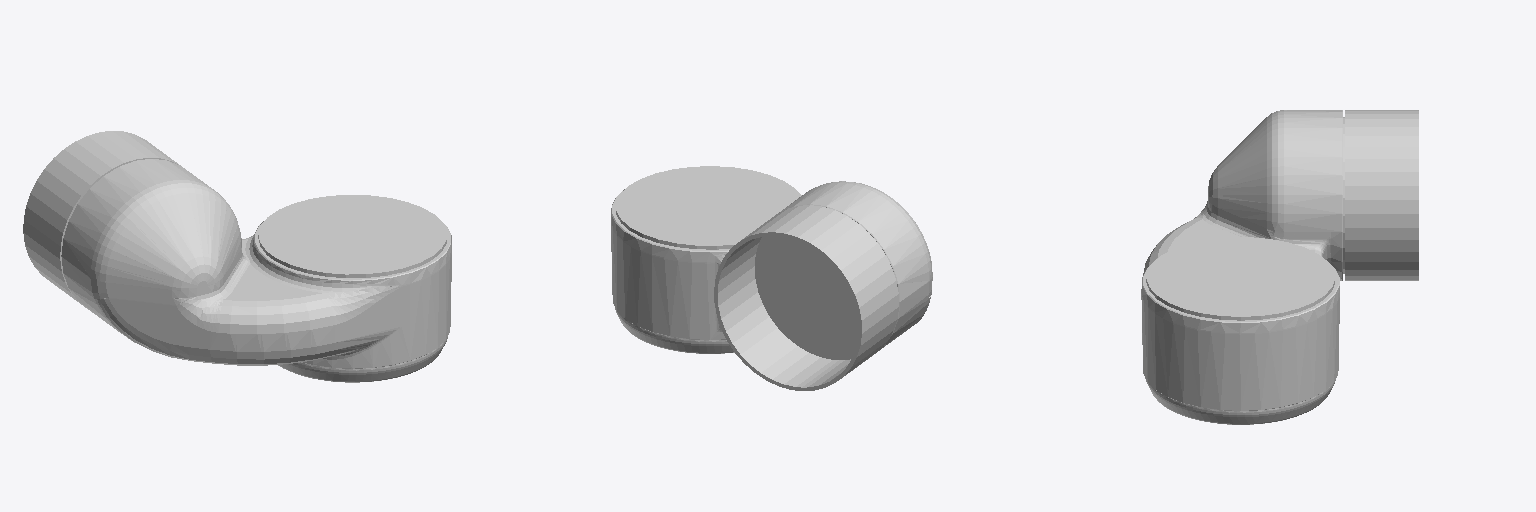
File: shoulder_pan_link.obj
The picture shows the model from 3 angles: view 1: azimuth 30°, elevation 25°; view 2: azimuth 150°, elevation 25°; view 3: azimuth 270°, elevation 25°; orthographic projection.
Parts seen in each view (by area): view 1: obj1; view 2: obj1; view 3: obj1.
Part boxes in pixels (bbox=[...]): obj1: bbox=[23, 131, 451, 382]; obj1: bbox=[611, 166, 932, 390]; obj1: bbox=[1141, 110, 1418, 424].
Size of the model in its own units: 0.2295 by 0.1265 by 0.1685.